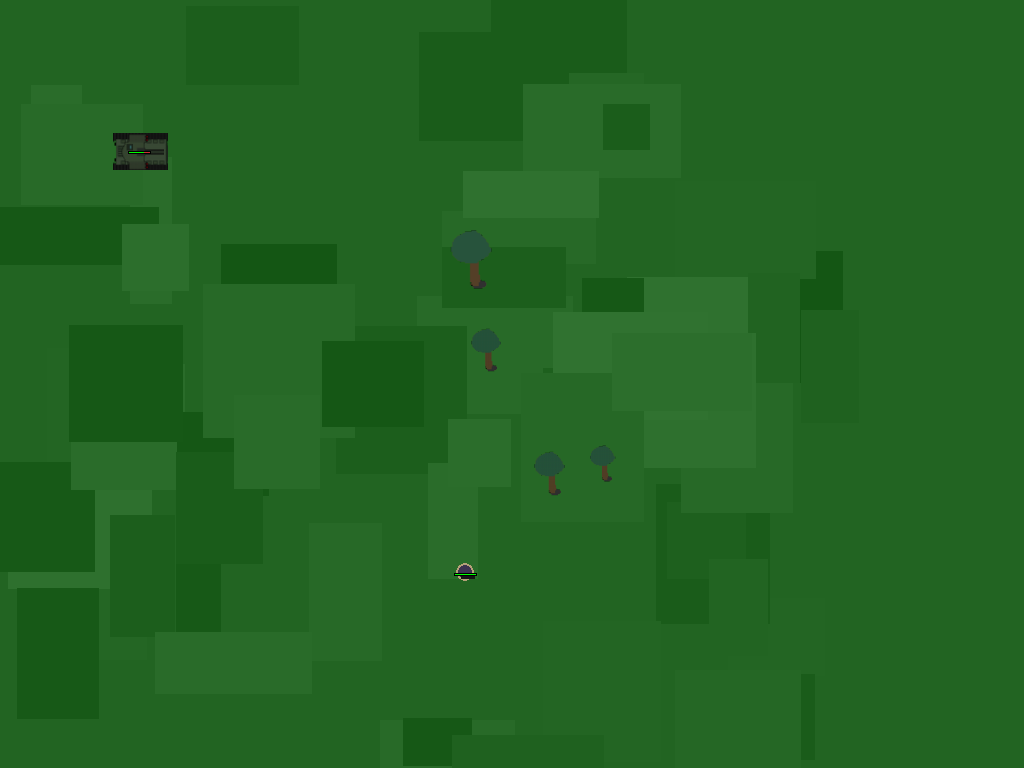RocketTrooper: (448, 556, 480, 588)
TerminatorIFV: (116, 127, 162, 173)
